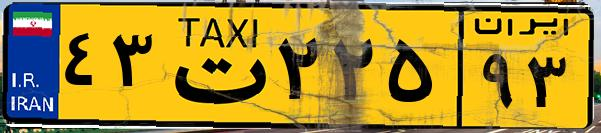2: (270, 28, 330, 110), (330, 28, 385, 110)
3: (525, 38, 570, 115), (110, 28, 158, 98)
4: (57, 26, 110, 100)
5: (385, 28, 445, 110)
9: (475, 38, 525, 113)
ت: (158, 12, 270, 120)
